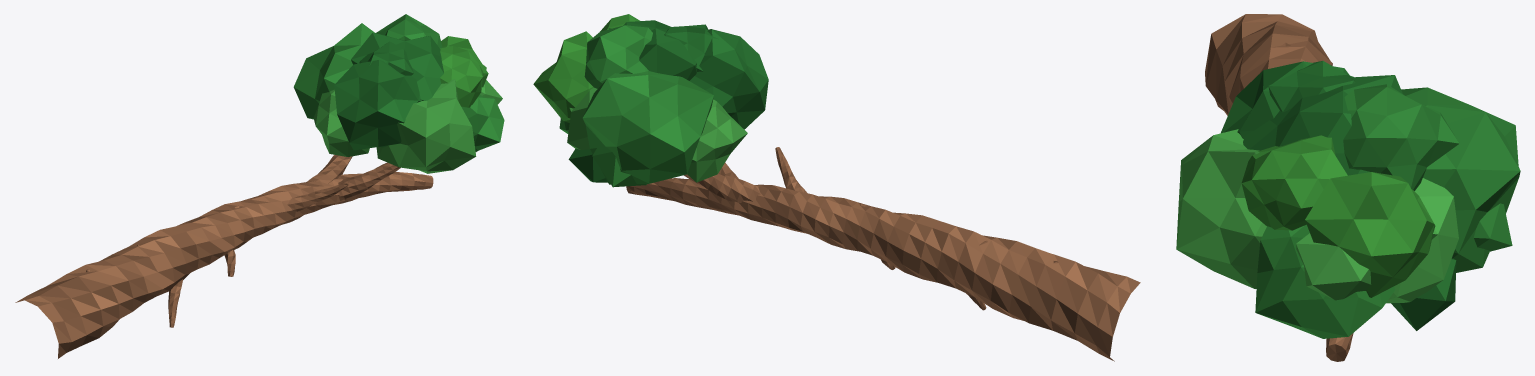
The model's file is branch_v2.glb.
3 renders of one model, left to right at view 1: azimuth 30°, elevation 25°; view 2: azimuth 150°, elevation 25°; view 3: azimuth 270°, elevation 25°, orthographic. The views are drawn at different scales.
Parts seen in each view (by area): view 1: BranchLeaves, BranchWood; view 2: BranchLeaves, BranchWood; view 3: BranchLeaves, BranchWood.
Part boxes in pixels (x1=…): BranchLeaves: x1=293, y1=14, x2=504, y2=173; BranchWood: x1=15, y1=155, x2=433, y2=358; BranchLeaves: x1=533, y1=14, x2=768, y2=187; BranchWood: x1=626, y1=147, x2=1140, y2=361; BranchLeaves: x1=1176, y1=61, x2=1520, y2=338; BranchWood: x1=1205, y1=14, x2=1353, y2=361.
Size of the model in its own units: 8.6 by 3.68 by 3.13.
